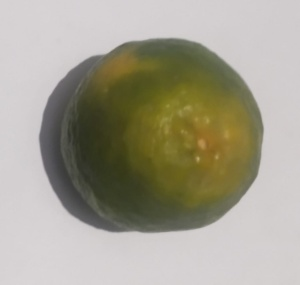BAD: (54, 27, 265, 239)
